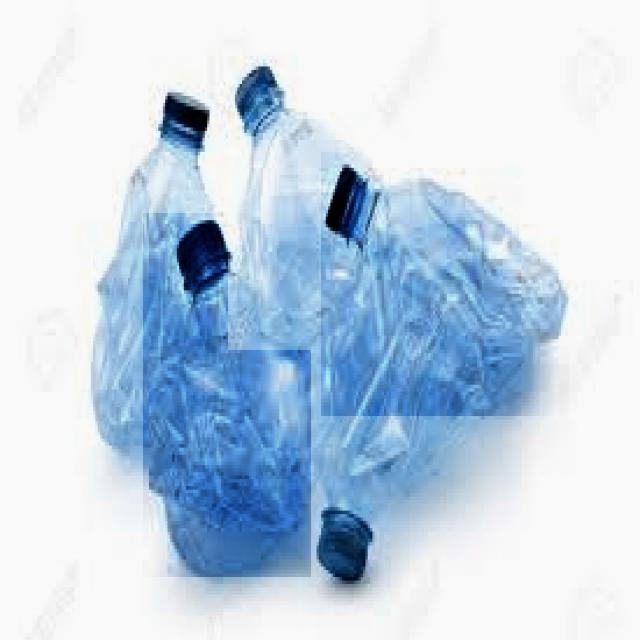bottle: (321, 152, 569, 416), (143, 214, 311, 577), (78, 81, 234, 462), (228, 56, 374, 350)
cap: (322, 162, 365, 236), (177, 218, 228, 278), (164, 90, 208, 145)
